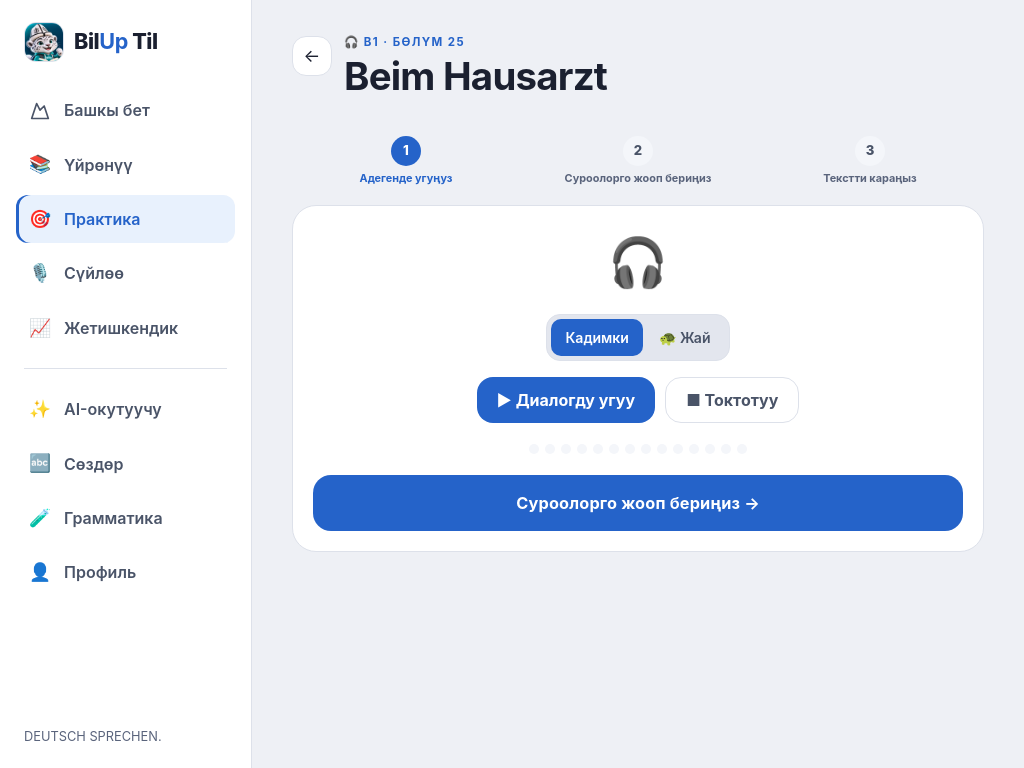
Test: reading and listening flows › ky: the listening shows the transcript only through the existing flow and offers the questions
Click the button "Суроолорго жооп бериңиз →". click: (638, 503)
box: [313,475,963,531]
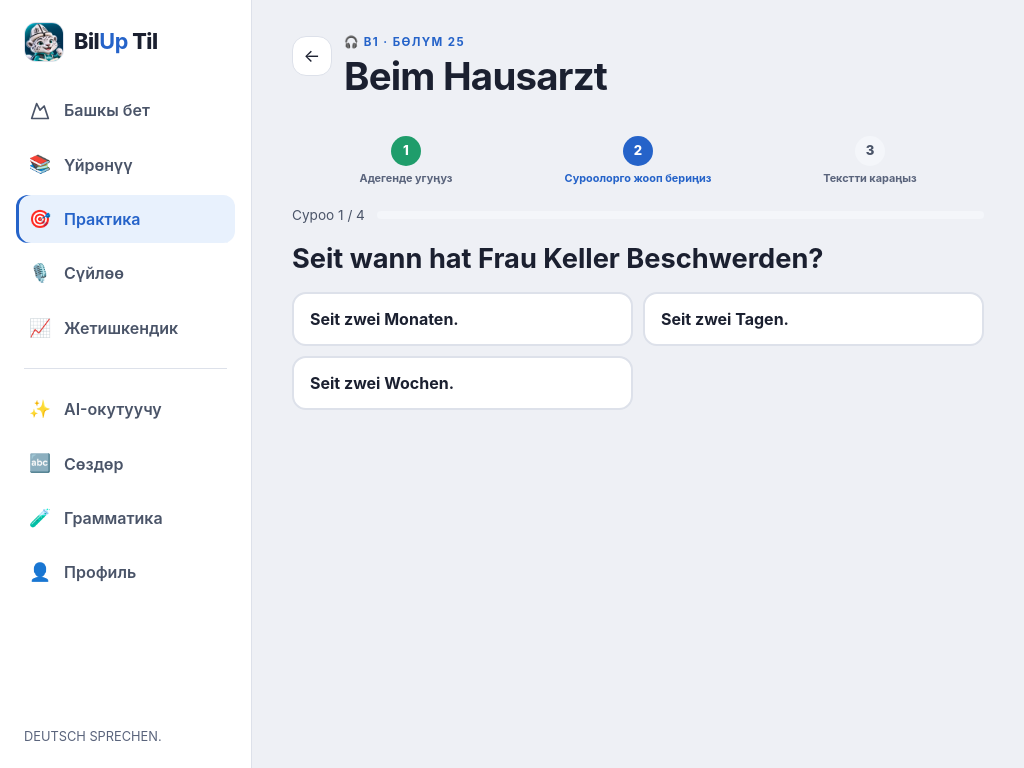
Result: the text "Seit wann hat Frau Keller Beschwerden?" is shown at [292,241,824,278]
